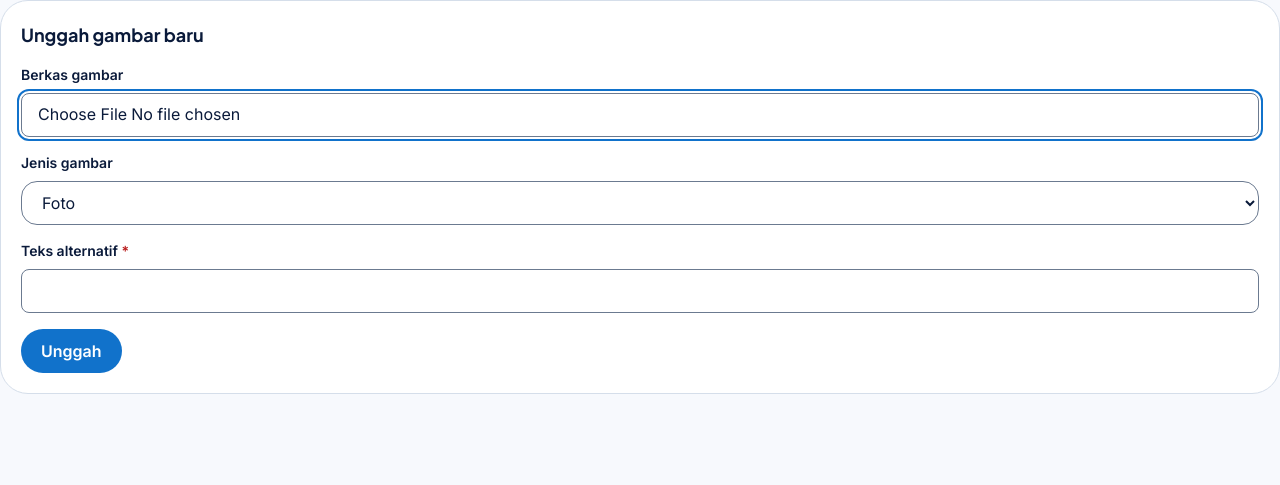
Test: media upload › sends the downscaled blob instead of the original file, together with the kind and alt
Earlier steps of the test are not shown.
Select "Logo" in the dropdown labelled "Jenis gambar" at (640, 203), box x1=21 y1=181 x2=1259 y2=225
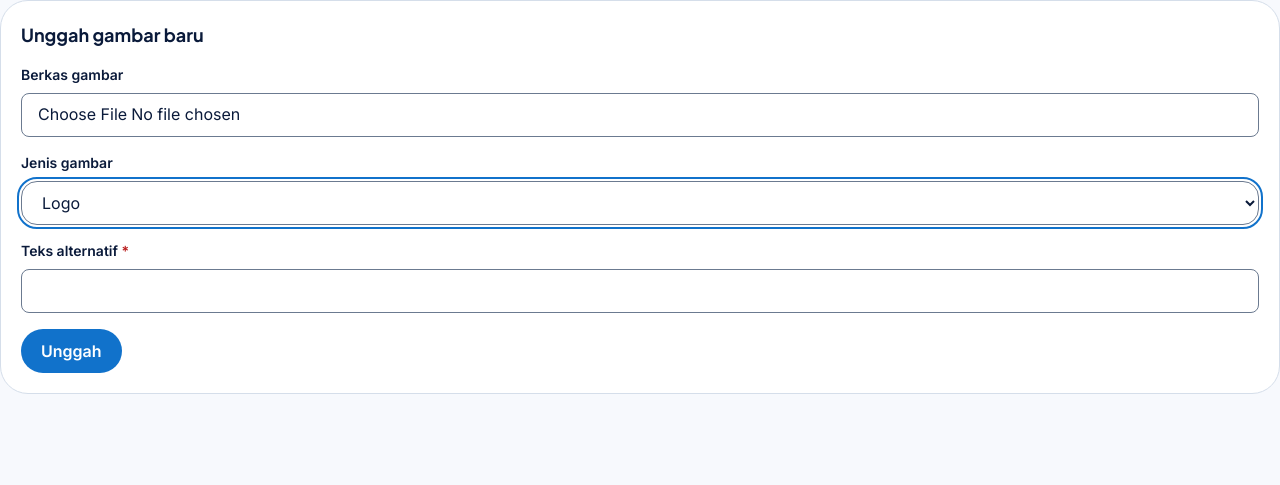
Type "Logo Nusa Karya" into the field labelled "Teks alternatif *" at (640, 291), box x1=21 y1=269 x2=1259 y2=313
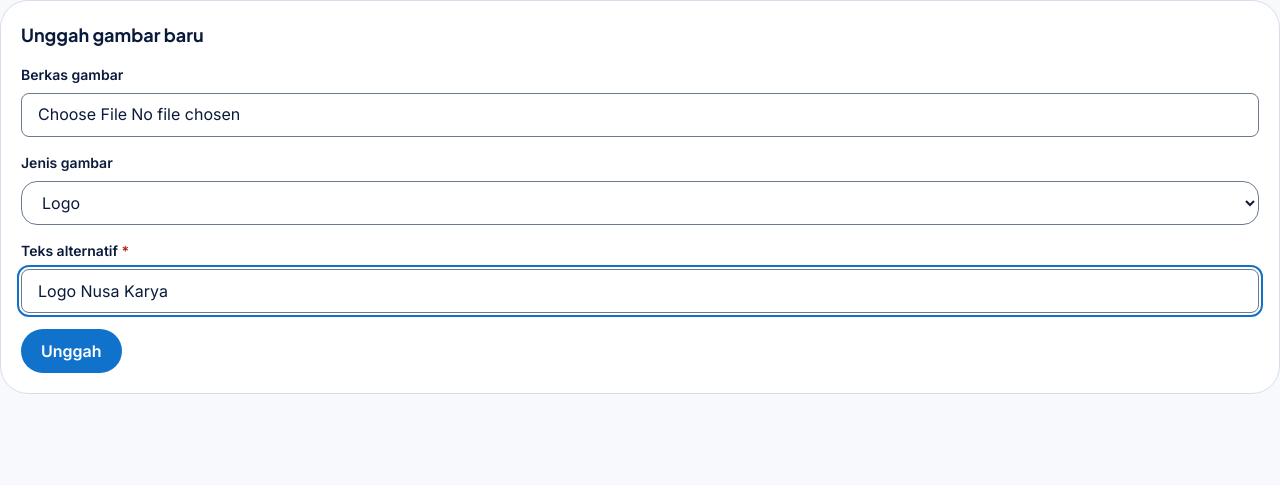
Click the button "Unggah" at (71, 351), box x1=21 y1=329 x2=122 y2=373
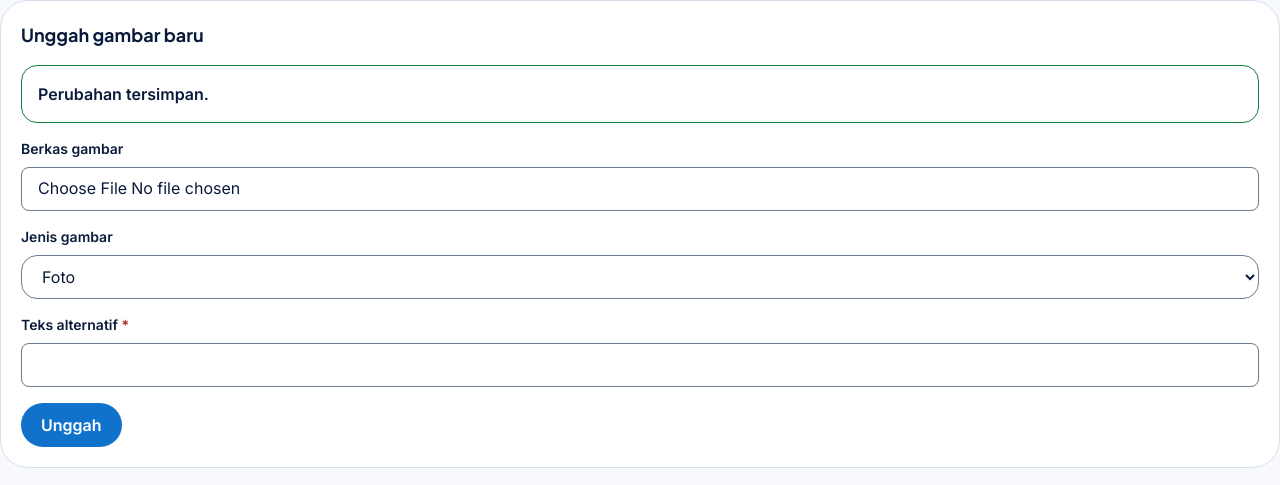
Expected: the text "Perubahan tersimpan." is shown, x1=38 y1=84 x2=209 y2=104
